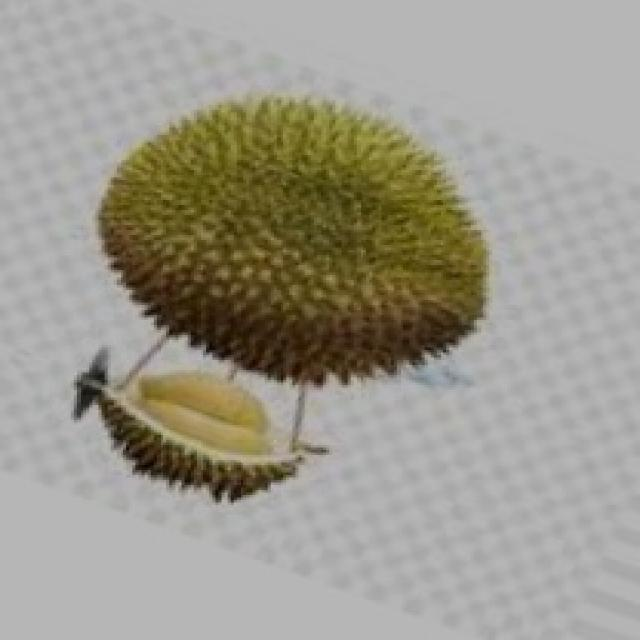fruit: (68, 55, 480, 433)
